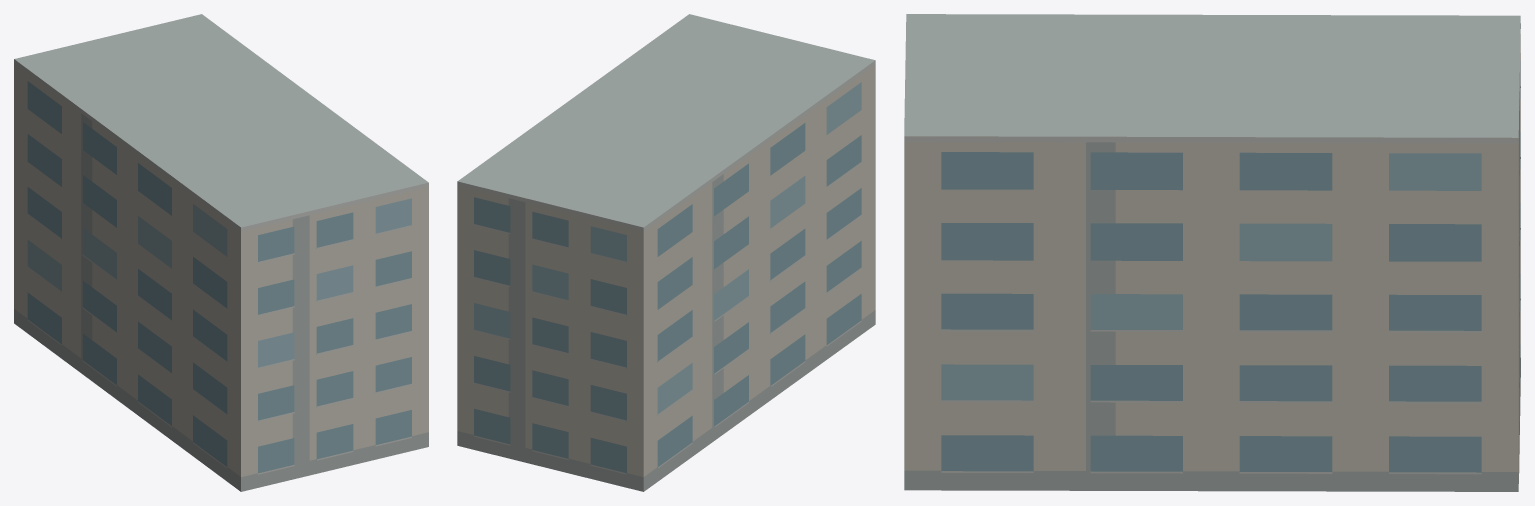
File: survey-upis-32613287.glb
3 renders of one model, left to right at view 1: azimuth 30°, elevation 25°; view 2: azimuth 150°, elevation 25°; view 3: azimuth 270°, elevation 25°, orthographic. The views are drawn at different scales.
Parts seen in each view (by area): view 1: survey-upis-32613287.tmp; view 2: survey-upis-32613287.tmp; view 3: survey-upis-32613287.tmp.
Part boxes in pixels (x1,y1,x2,y2): survey-upis-32613287.tmp: (14,14,428,491); survey-upis-32613287.tmp: (457,14,875,491); survey-upis-32613287.tmp: (904,14,1520,491).
Bounding box in the file's own units: 11.74 × 15.64 × 24.7.
